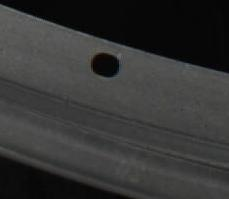holes: (89, 51, 121, 78)
